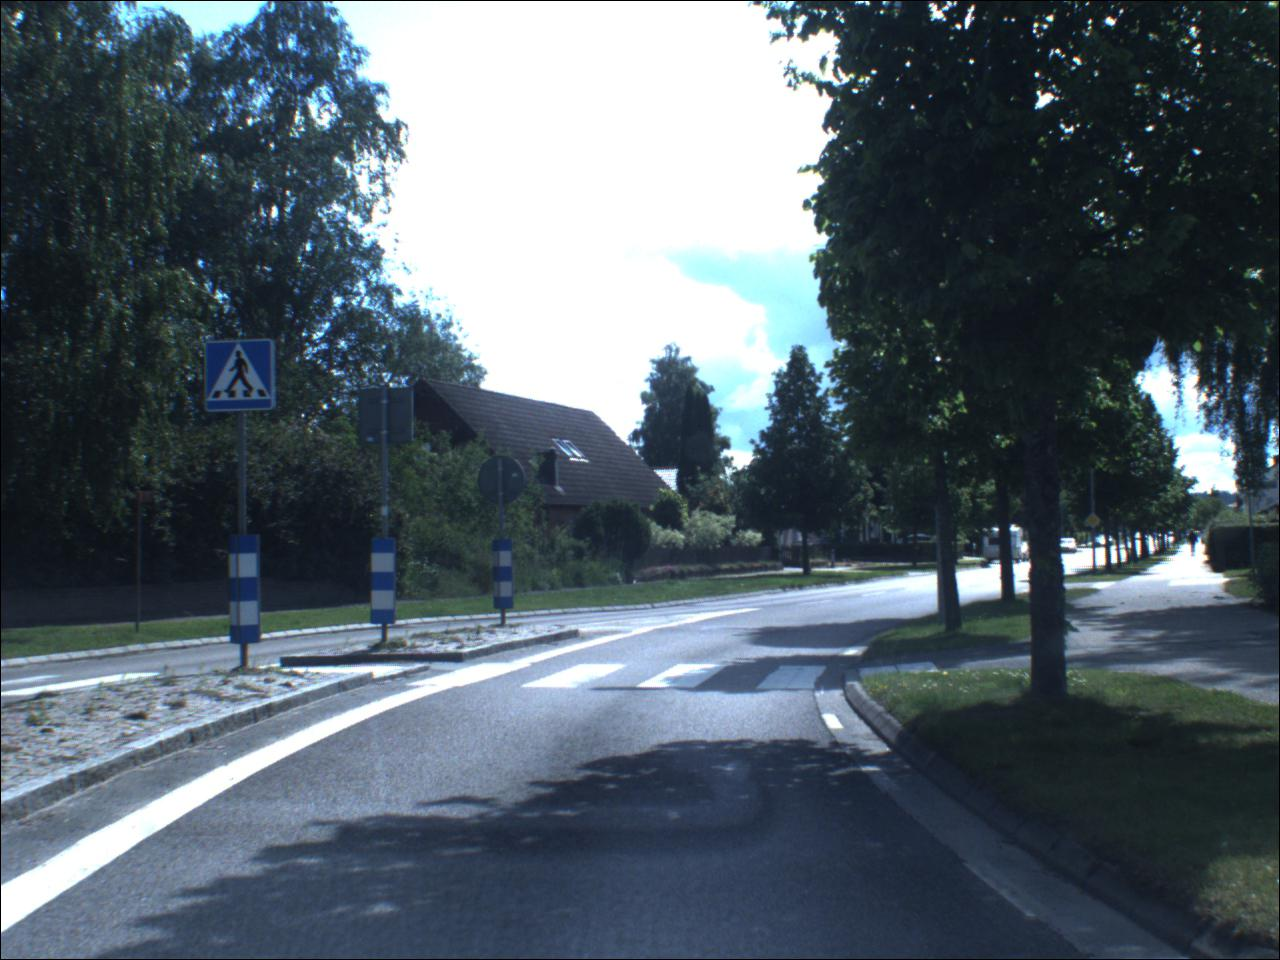PEDESTRIAN_CROSSING: (207, 341, 277, 412)
PRIORITY_ROAD: (1087, 516, 1103, 530)
